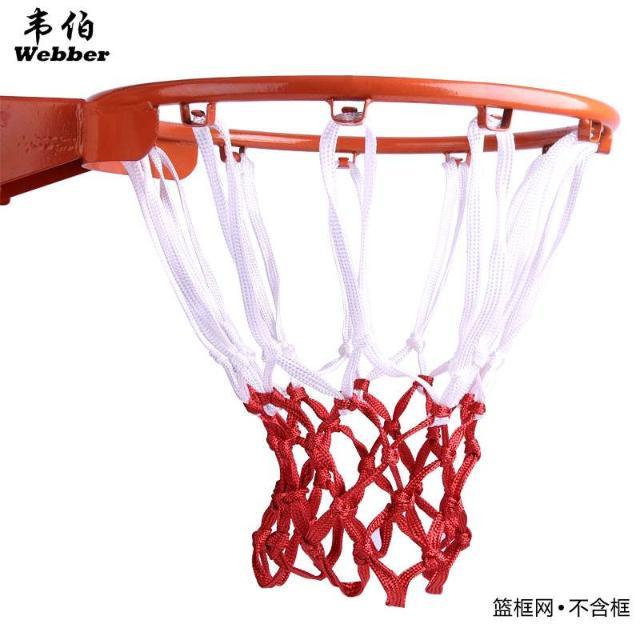rim: (84, 75, 622, 610)
